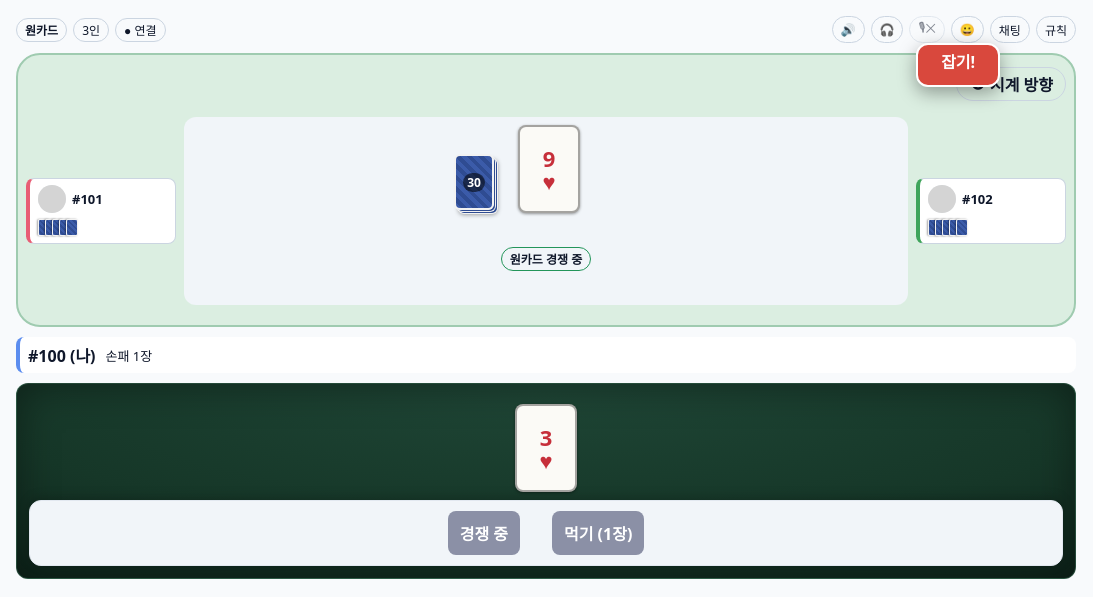
Test: OneCardTable — 원카드 경쟁 › 내가 이기면 안내도 오류도 없다
Click the button "잡기!" at (958, 65), box [916,43,1000,87]
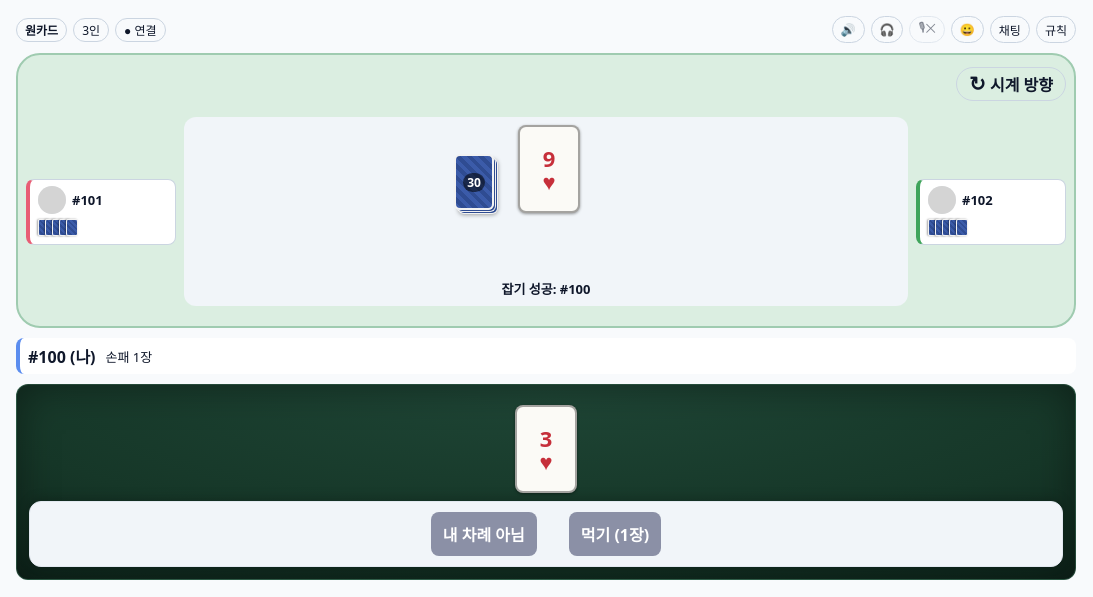
Check: the button "잡기!" is gone
